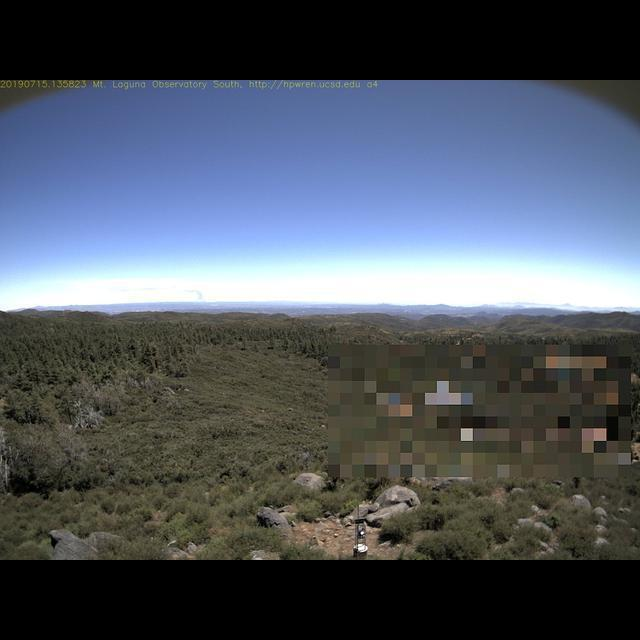Smoke: (178, 284, 211, 304)
